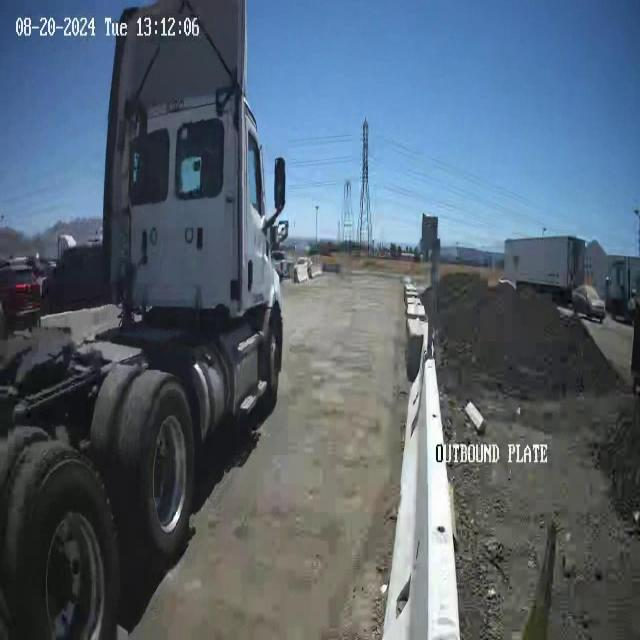TRUCK_IN: (1, 1, 289, 638)
